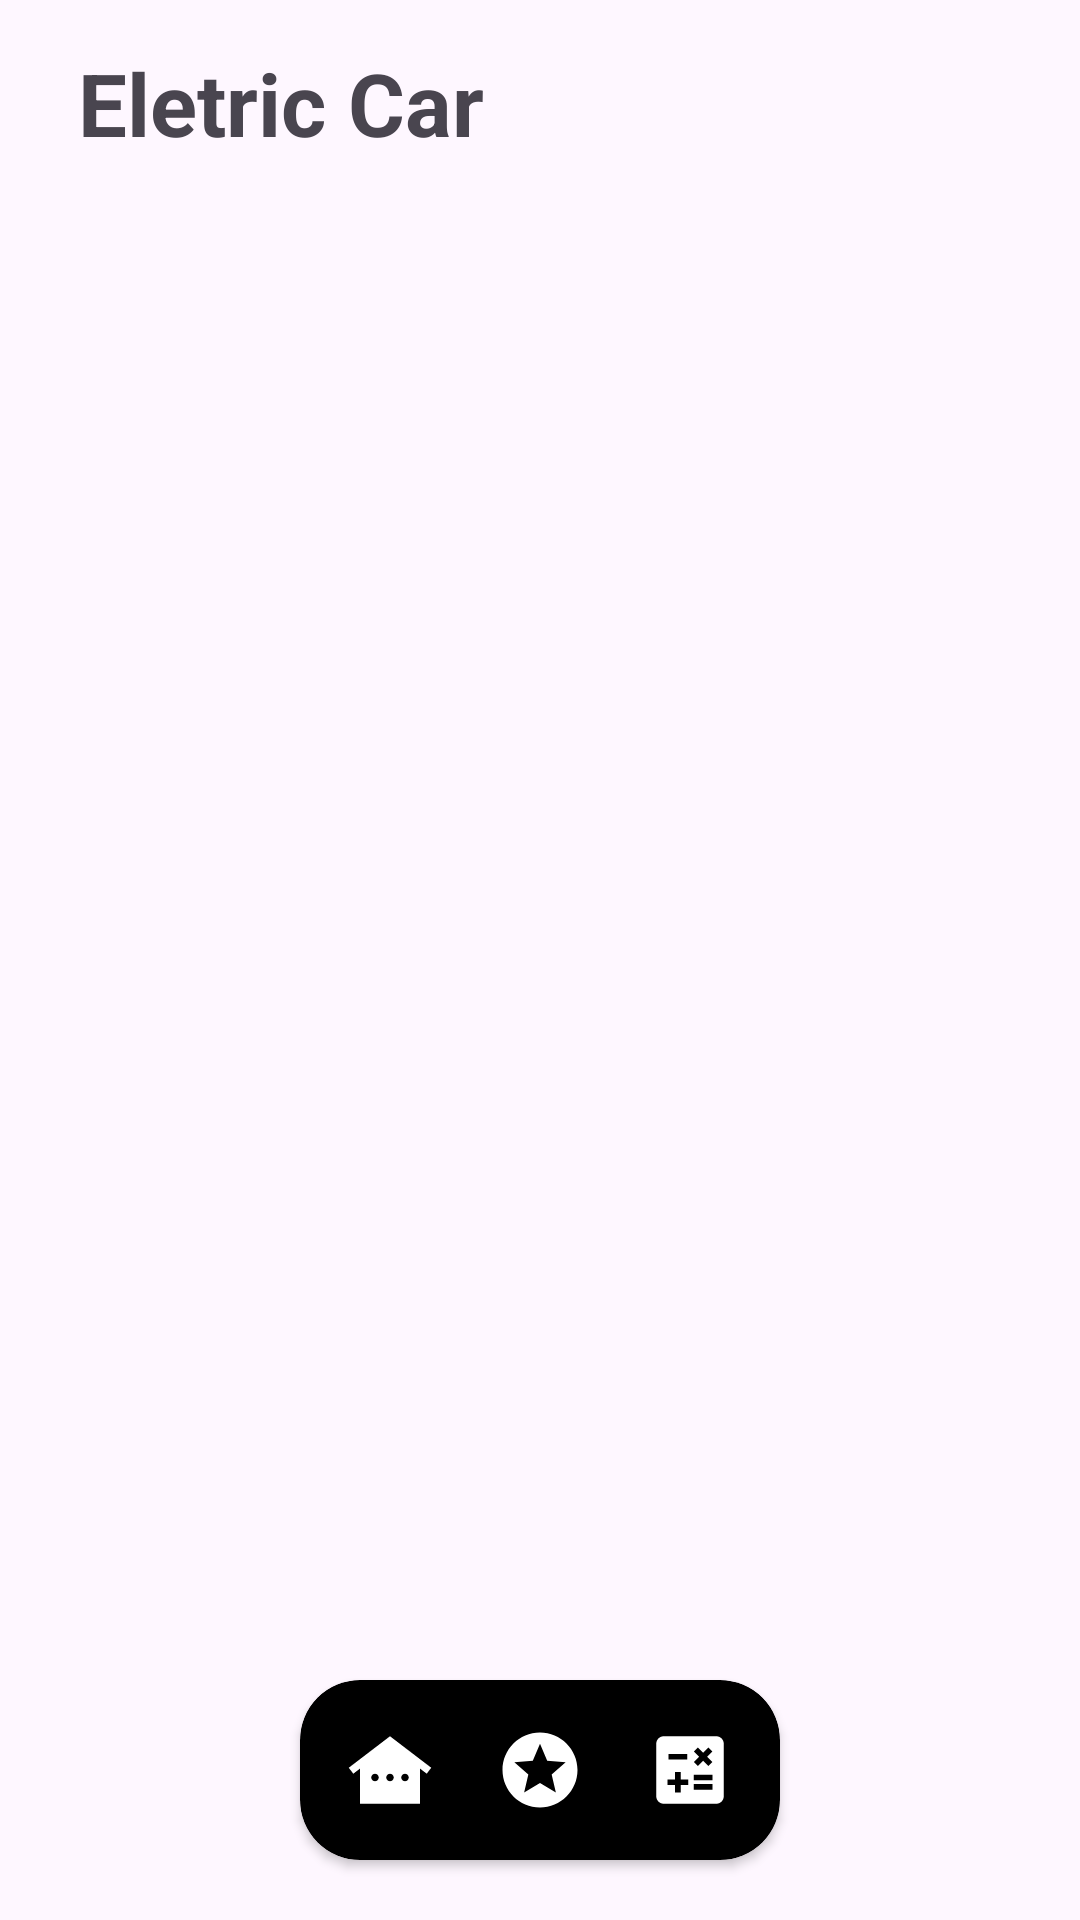

Where to tap for icons on this 1080 x 1920 app screen, as (x,y):
calculate: (690,1770)
other houses: (390,1770)
stars: (540,1770)
